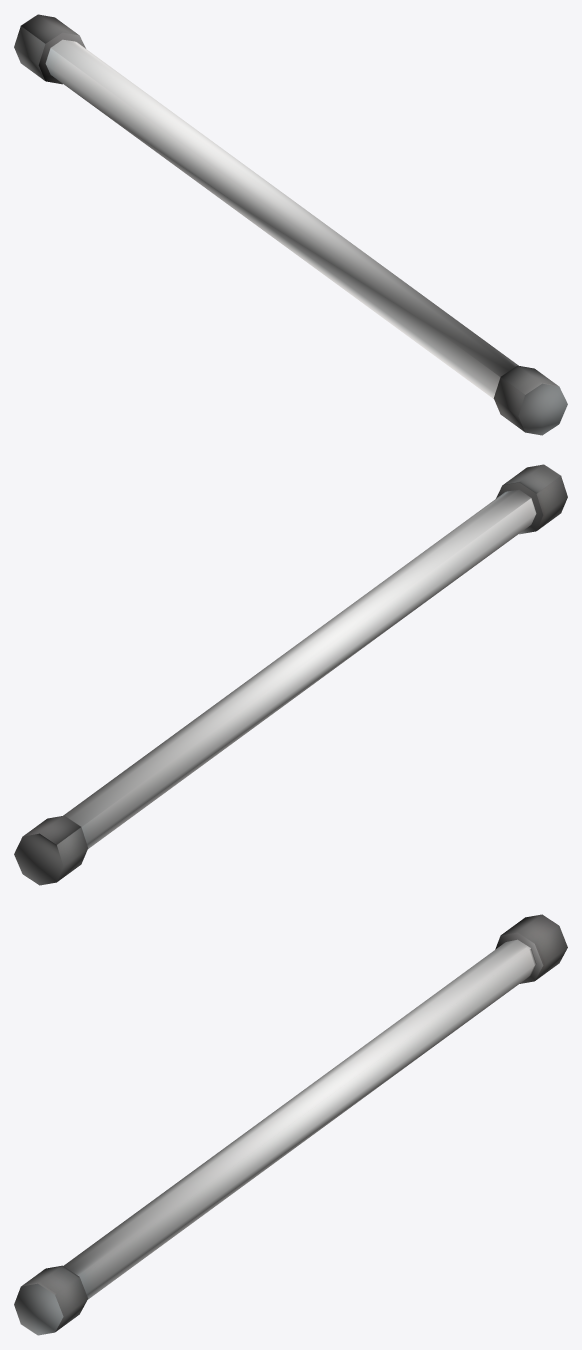
The model's file is light.glb.
3 renders of one model, top to bottom at view 1: azimuth 30°, elevation 25°; view 2: azimuth 150°, elevation 25°; view 3: azimuth 330°, elevation 25°, orthographic.
Parts seen in each view (by area): view 1: texture_pbr_v128; view 2: texture_pbr_v128; view 3: texture_pbr_v128.
Boxes of the visible parts, x1,y1,x2,y2 form: texture_pbr_v128: (14,14,567,435); texture_pbr_v128: (14,464,567,885); texture_pbr_v128: (14,914,567,1335).
Size of the model in its own units: 0.0679 by 0.0679 by 1.2.
Materials: 1 (1 with a texture image).
